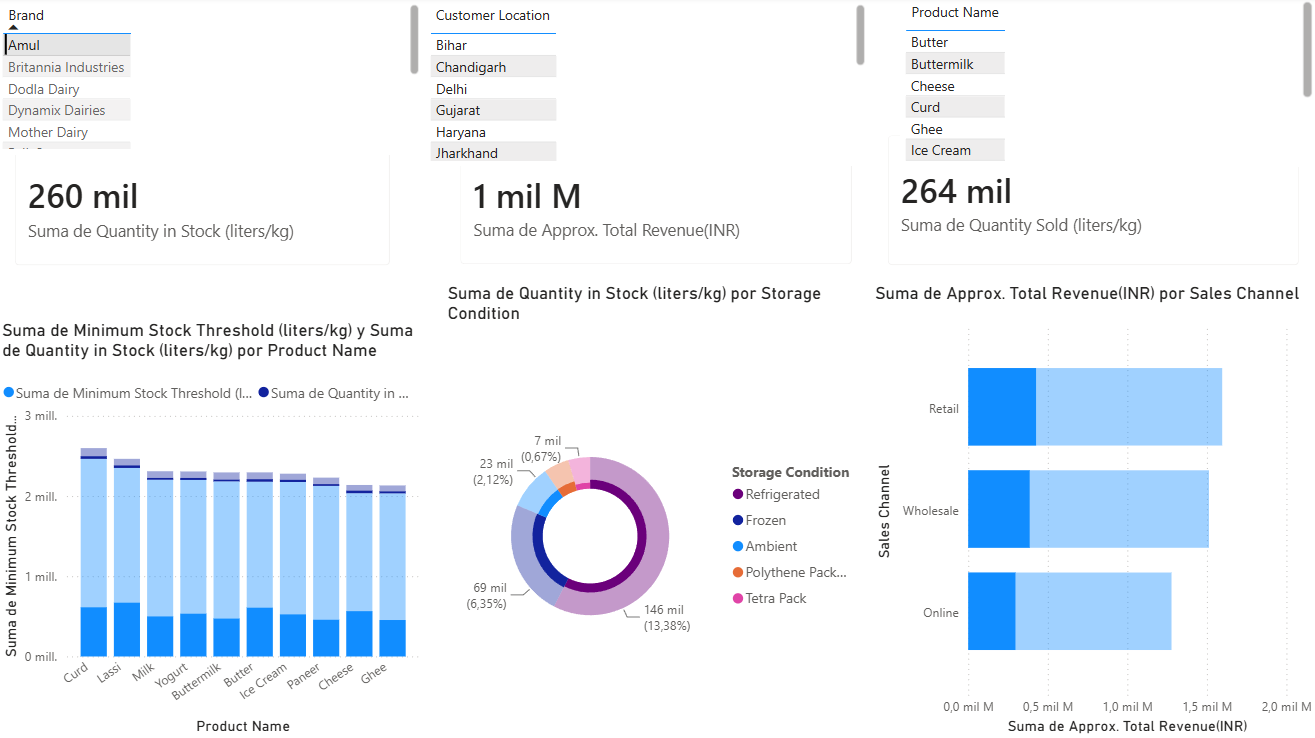

The dashboard page shown, as its layout file describes it:
{"tool":"powerbi","page":{"name":"Página 1","canvas":[1280,720],"ordinal":0},"visuals":[{"type":"cardVisual","fields":{"Data":["Sum(dairy_dataset.Quantity in Stock (liters/kg))"]},"box":[0,127.9,398.3,150.6],"z":0},{"type":"cardVisual","fields":{"Data":["Sum(dairy_dataset.Approx. Total Revenue(INR))"]},"box":[432.3,128.1,414.8,149.9],"z":1000},{"type":"cardVisual","fields":{"Data":["Sum(dairy_dataset.Quantity Sold (liters/kg))"]},"box":[847.1,117.9,433.8,160.1],"z":2000},{"type":"columnChart","fields":{"Category":["dairy_dataset.Product Name"],"Y":["Sum(dairy_dataset.Minimum Stock Threshold (liters/kg))","Sum(dairy_dataset.Quantity in Stock (liters/kg))"]},"box":[0,314.1,414.5,406.4],"z":3000},{"type":"donutChart","fields":{"Category":["dairy_dataset.Storage Condition"],"Y":["Sum(dairy_dataset.Quantity in Stock (liters/kg))"]},"box":[432.3,278,414.8,442.5],"z":4000},{"type":"barChart","fields":{"Category":["dairy_dataset.Sales Channel"],"Y":["Sum(dairy_dataset.Approx. Total Revenue(INR))"]},"box":[847.1,278,433.8,442.5],"z":5000},{"type":"tableEx","fields":{"Values":["dairy_dataset.Brand"]},"box":[0,3.2,414.5,150.6],"z":5001},{"type":"tableEx","fields":{"Values":["dairy_dataset.Customer Location"]},"box":[414.5,3.2,432.3,161.9],"z":5002},{"type":"tableEx","fields":{"Values":["dairy_dataset.Product Name"]},"box":[876,0,404.8,165.2],"z":5003}]}

Visuals, with their boxes in screenshot pixels (x1, y1, x2, y2), scaled from the page's 1280x720 canvas onto the 1315x738 screenshot:
cardVisual - Sum(dairy_dataset.Quantity in Stock (liters/kg)): {"left": 0, "top": 131, "right": 409, "bottom": 285}
cardVisual - Sum(dairy_dataset.Approx. Total Revenue(INR)): {"left": 444, "top": 131, "right": 870, "bottom": 285}
cardVisual - Sum(dairy_dataset.Quantity Sold (liters/kg)): {"left": 870, "top": 121, "right": 1314, "bottom": 285}
columnChart - dairy_dataset.Product Name x Sum(dairy_dataset.Minimum Stock Threshold (liters/kg)): {"left": 0, "top": 322, "right": 426, "bottom": 737}
donutChart - dairy_dataset.Storage Condition x Sum(dairy_dataset.Quantity in Stock (liters/kg)): {"left": 444, "top": 285, "right": 870, "bottom": 737}
barChart - dairy_dataset.Sales Channel x Sum(dairy_dataset.Approx. Total Revenue(INR)): {"left": 870, "top": 285, "right": 1314, "bottom": 737}
tableEx - dairy_dataset.Brand: {"left": 0, "top": 3, "right": 426, "bottom": 158}
tableEx - dairy_dataset.Customer Location: {"left": 426, "top": 3, "right": 870, "bottom": 169}
tableEx - dairy_dataset.Product Name: {"left": 900, "top": 0, "right": 1314, "bottom": 169}
